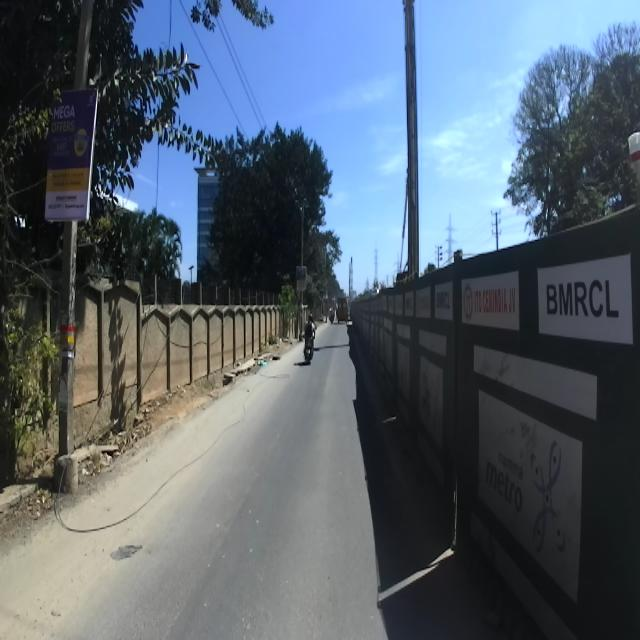electric pole ahead at: (32, 1, 108, 496)
